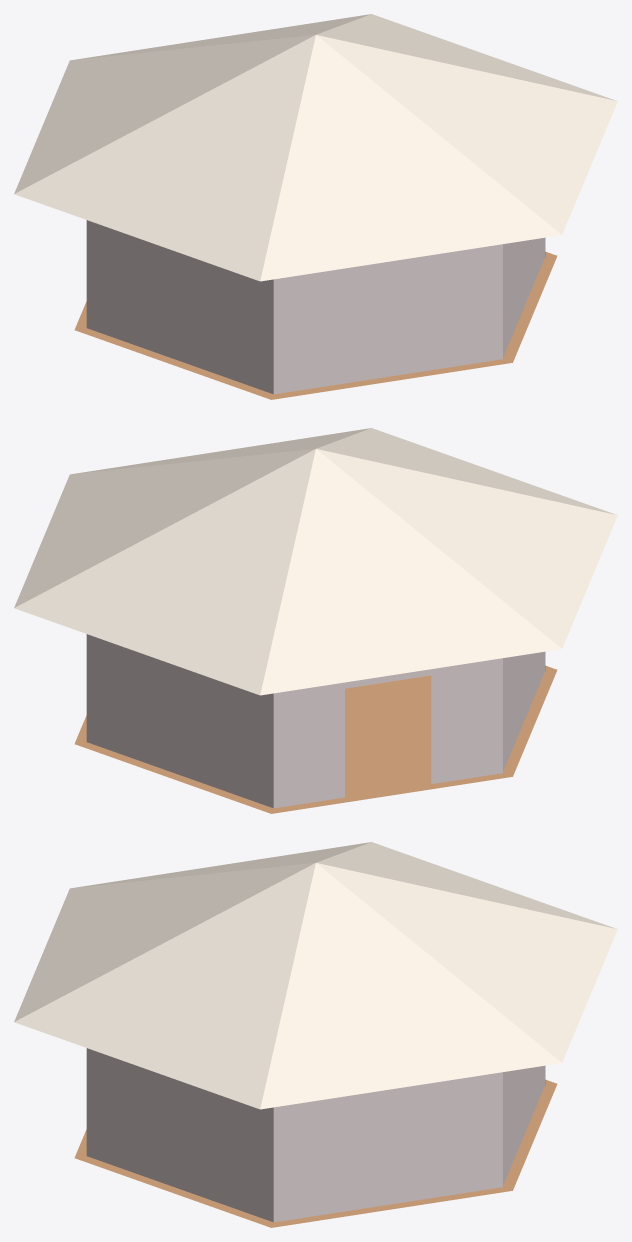
The model's file is zon_room_song_raw.glb.
3 views of the same model, one above another, from view 1: azimuth 30°, elevation 25°; view 2: azimuth 150°, elevation 25°; view 3: azimuth 270°, elevation 25° (orthographic).
Parts seen in each view (by area): view 1: SM_zon_room_song_room_ceiling_x0_z0_raw, SM_zon_room_song_room_paper_x0_z0_raw, SM_zon_room_song_room_floor_x0_z0_raw; view 2: SM_zon_room_song_room_ceiling_x0_z0_raw, SM_zon_room_song_room_paper_x0_z0_raw, SM_zon_room_song_room_floor_x0_z0_raw; view 3: SM_zon_room_song_room_ceiling_x0_z0_raw, SM_zon_room_song_room_paper_x0_z0_raw, SM_zon_room_song_room_floor_x0_z0_raw.
Part boxes in pixels (box(x1,y1,x2,y2)): SM_zon_room_song_room_ceiling_x0_z0_raw: box(14, 14, 617, 281); SM_zon_room_song_room_paper_x0_z0_raw: box(86, 220, 545, 394); SM_zon_room_song_room_floor_x0_z0_raw: box(74, 251, 557, 399); SM_zon_room_song_room_ceiling_x0_z0_raw: box(14, 428, 617, 695); SM_zon_room_song_room_paper_x0_z0_raw: box(86, 634, 545, 808); SM_zon_room_song_room_floor_x0_z0_raw: box(74, 665, 557, 813); SM_zon_room_song_room_ceiling_x0_z0_raw: box(14, 842, 617, 1109); SM_zon_room_song_room_paper_x0_z0_raw: box(86, 1048, 545, 1222); SM_zon_room_song_room_floor_x0_z0_raw: box(74, 1079, 557, 1227).
Size of the model in its own units: 13.05 by 5.9 by 12.45.
